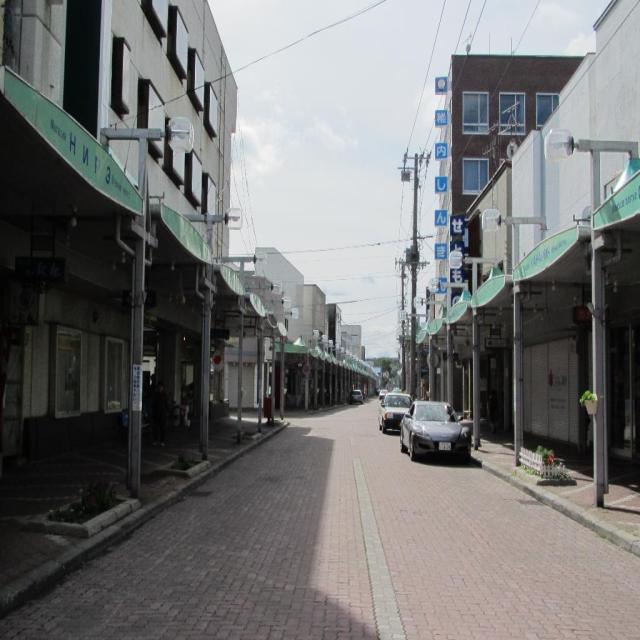car: (399, 402, 472, 461)
